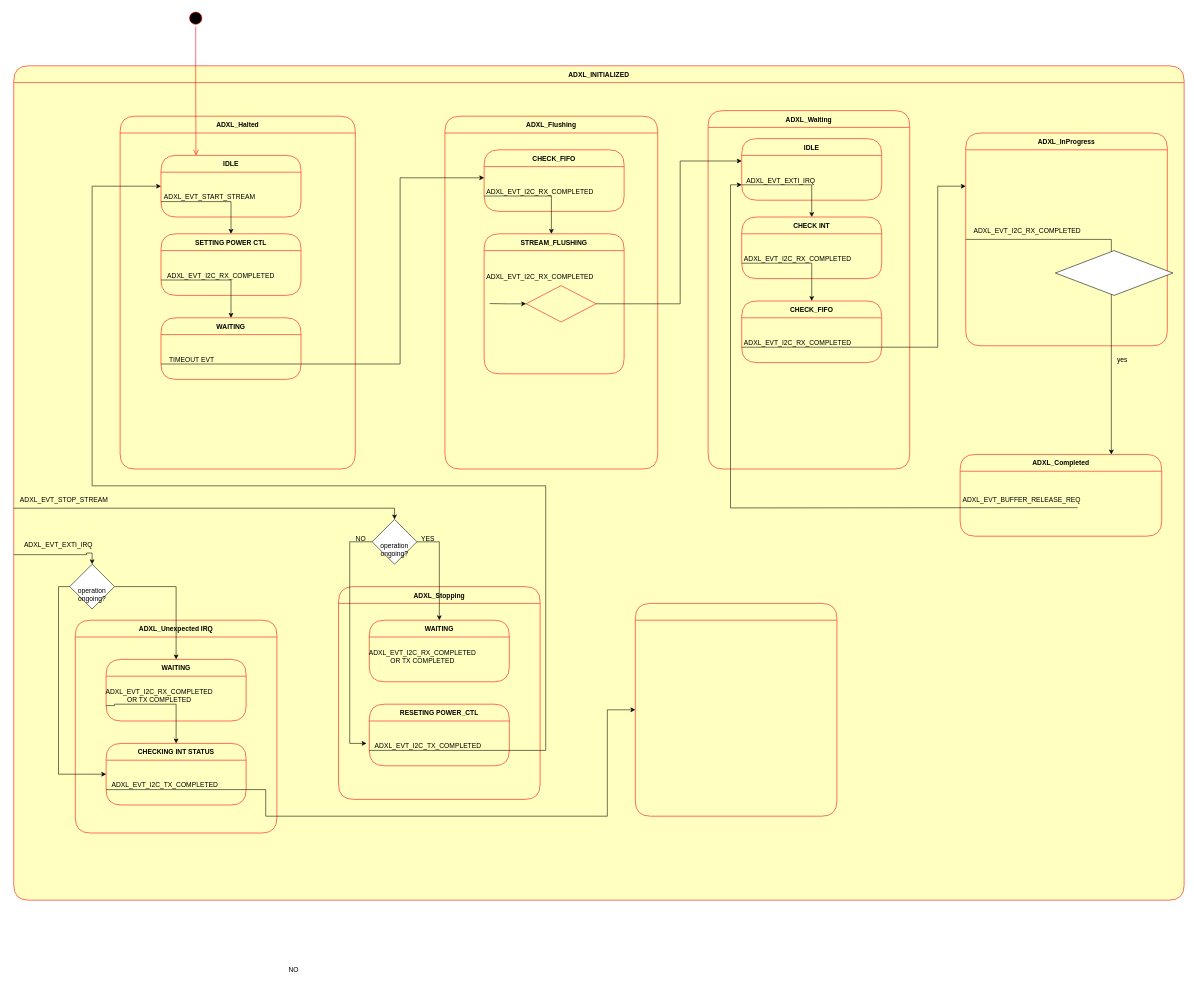
This 1194x988 diagram has some shape labels left out. Here are the shapes that lost their labels. From the top down, the centre of each, then its label:
point 1114,272: readout_num == fifo_samples_num
point 561,303: readout_num == expected size
point 736,709: ADXL_Error
